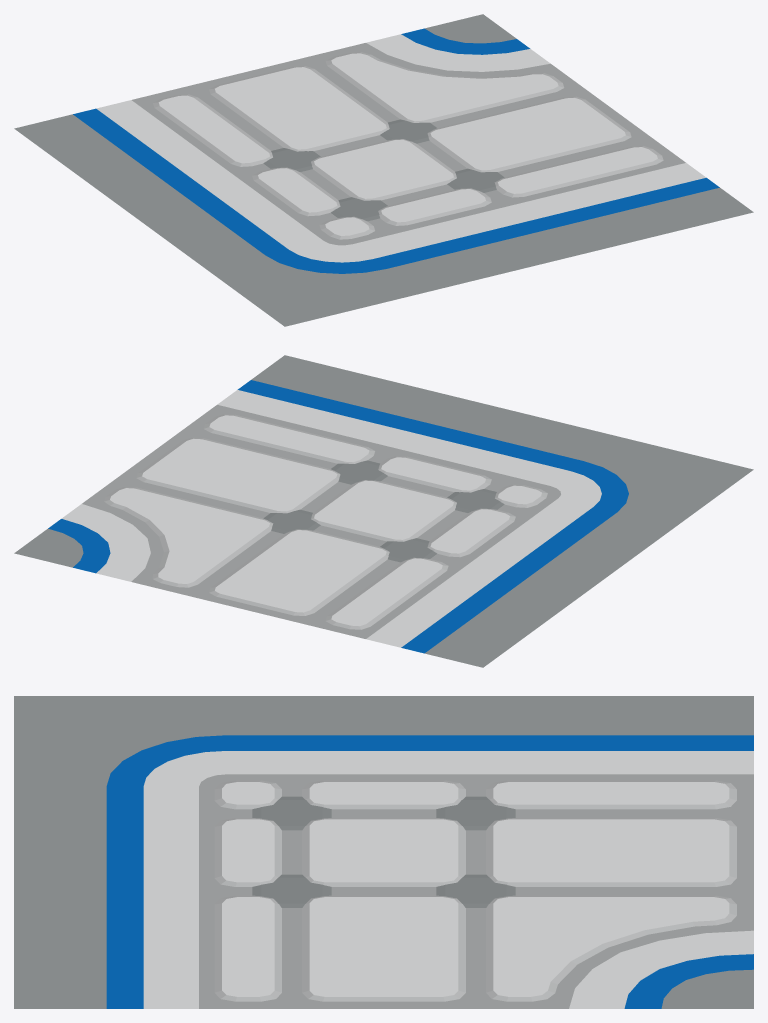
File: Floor_type_A_010.fbx
The picture shows the model from 3 angles, top to bottom: view 1: azimuth 30°, elevation 25°; view 2: azimuth 150°, elevation 25°; view 3: azimuth 270°, elevation 25°; orthographic projection. The views are drawn at different scales.
Visible parts, largest first — view 1: Floor_type_A_010; view 2: Floor_type_A_010; view 3: Floor_type_A_010.
Part boxes in pixels (x1,y1,x2,y2): Floor_type_A_010: [14, 14, 753, 326]; Floor_type_A_010: [14, 355, 753, 667]; Floor_type_A_010: [14, 696, 753, 1008].
Bounding box in the file's own units: 400 × 400 × 1.34.
